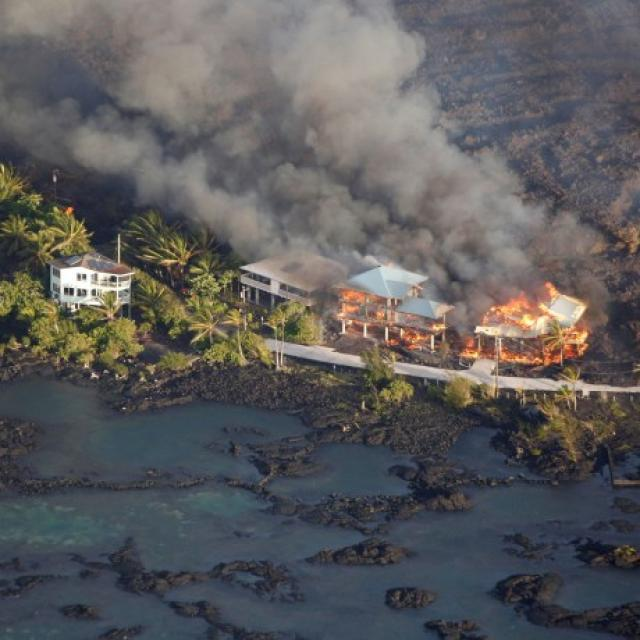Fire: (456, 274, 598, 367), (332, 263, 455, 353)
Smoke: (0, 0, 623, 361)
